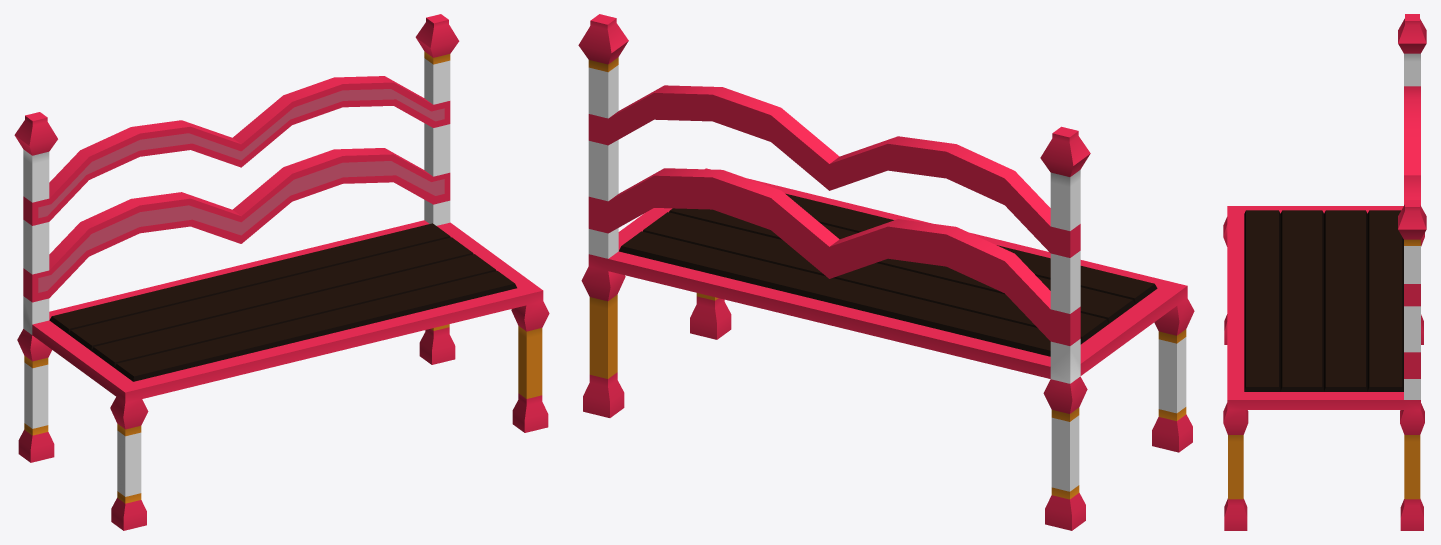
File: BenChi.fbx
The picture shows the model from 3 angles, left to right: view 1: azimuth 30°, elevation 25°; view 2: azimuth 150°, elevation 25°; view 3: azimuth 270°, elevation 25°; orthographic projection. The views are drawn at different scales.
Visible parts, largest first — view 1: BenChi; view 2: BenChi; view 3: BenChi.
Part boxes in pixels (bbox=[...]): BenChi: bbox=[14, 14, 549, 530]; BenChi: bbox=[578, 14, 1194, 530]; BenChi: bbox=[1223, 14, 1426, 530].
Bounding box in the file's own units: 0.7916 × 0.5966 × 0.3413.
